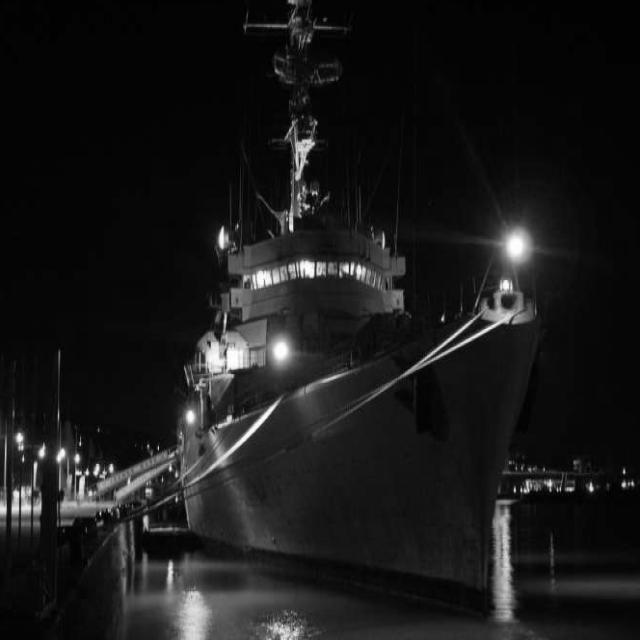Portanaves: (106, 1, 569, 622)
